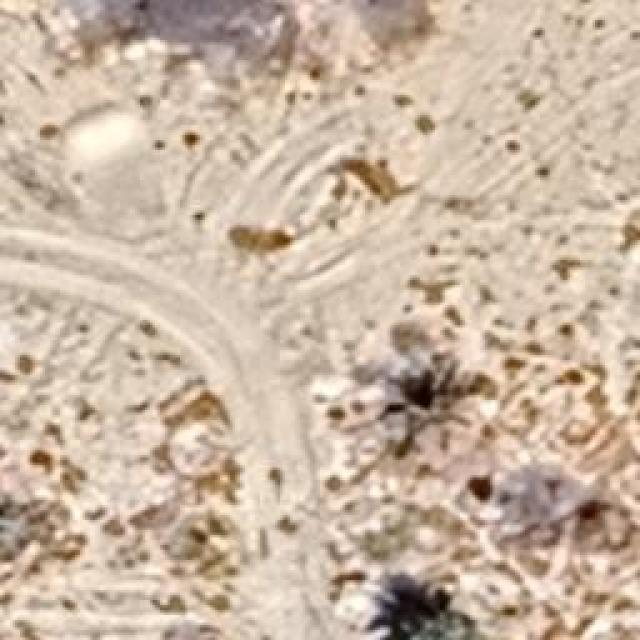PalmTree: (88, 58, 426, 610), (100, 25, 383, 58), (384, 366, 476, 452)
